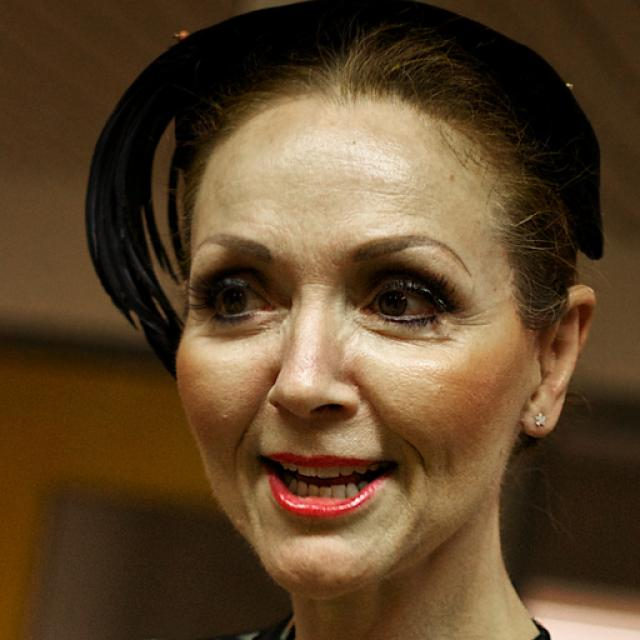Acne: (210, 404, 236, 430)
